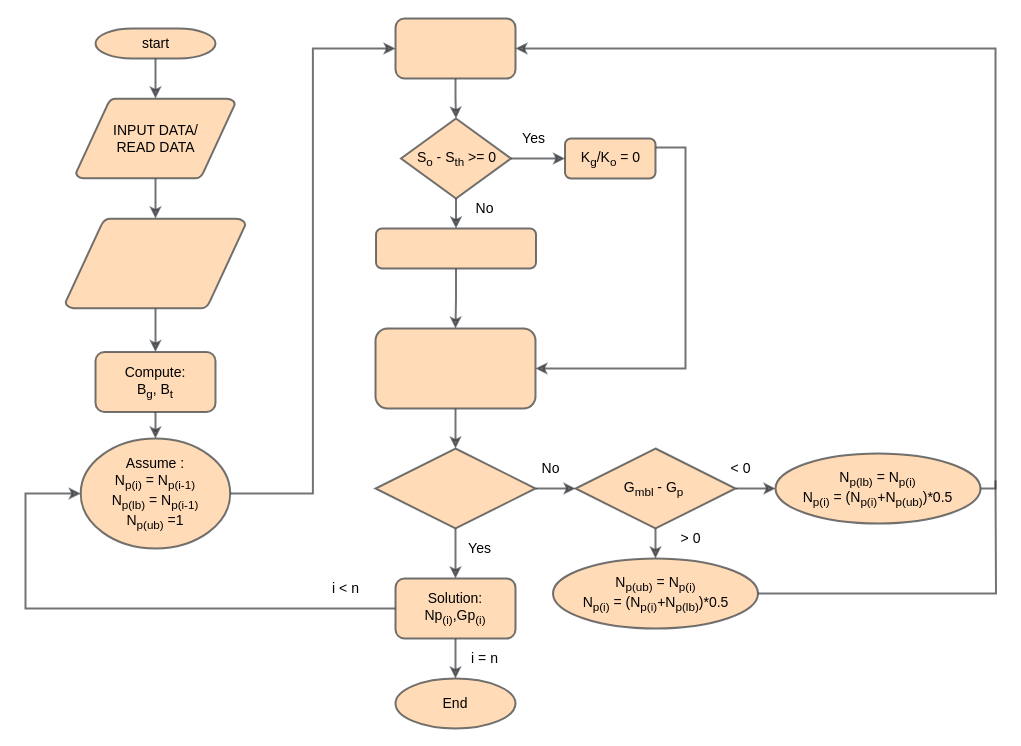
Some shapes in this 1021 by 746 pixel diagram are drawn without their labels. The shapes that lost their labels are listed below. From the top down, each one's centre as x and y in pixels, then its label:
At (455,48): "Compute: G mbl , S o".
At (155,263): "K o /K o vs S o graph plotting using Curve fitting".
At (455,248): "K g /K o = exp( f(S o ) )".
At (455,368): "Compute: R,G p".
At (455,488): "| G mbl - G p | < 0.0001".
